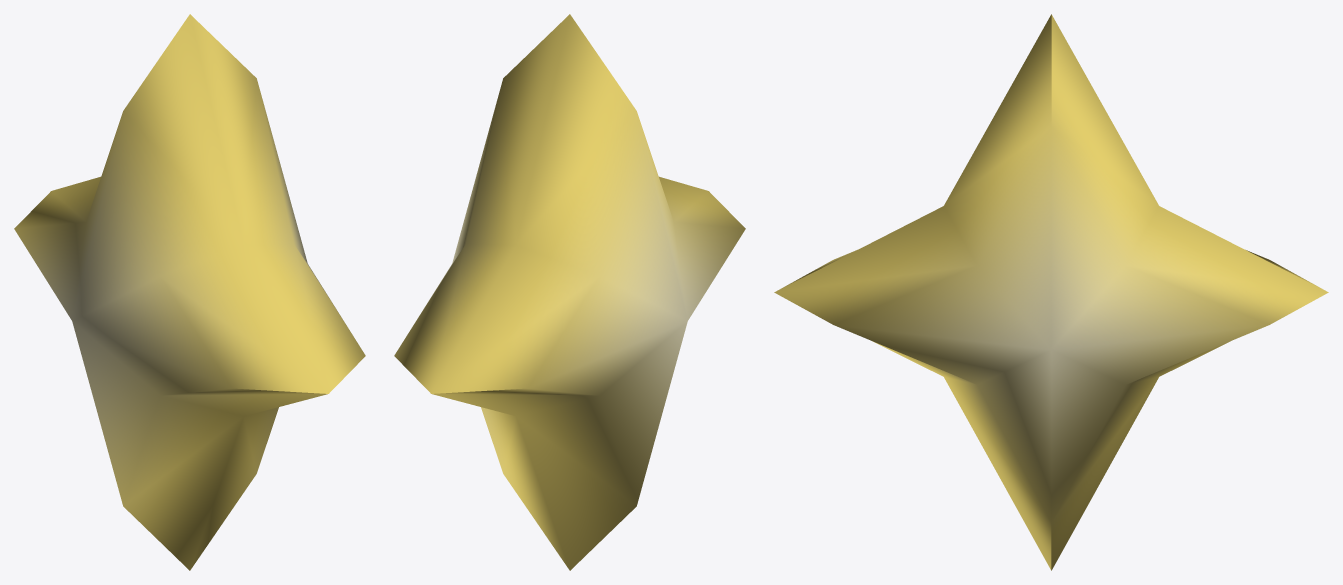
File: EXPstar.fbx
3 renders of one model, left to right at view 1: azimuth 30°, elevation 25°; view 2: azimuth 150°, elevation 25°; view 3: azimuth 270°, elevation 25°, orthographic.
Visible parts, largest first — view 1: Cube; view 2: Cube; view 3: Cube.
Boxes of the visible parts, <box> form: Cube: <box>14,14,365,570</box>; Cube: <box>394,14,745,570</box>; Cube: <box>774,14,1328,570</box>.
Bounding box in the file's own units: 176 × 398 × 360.
